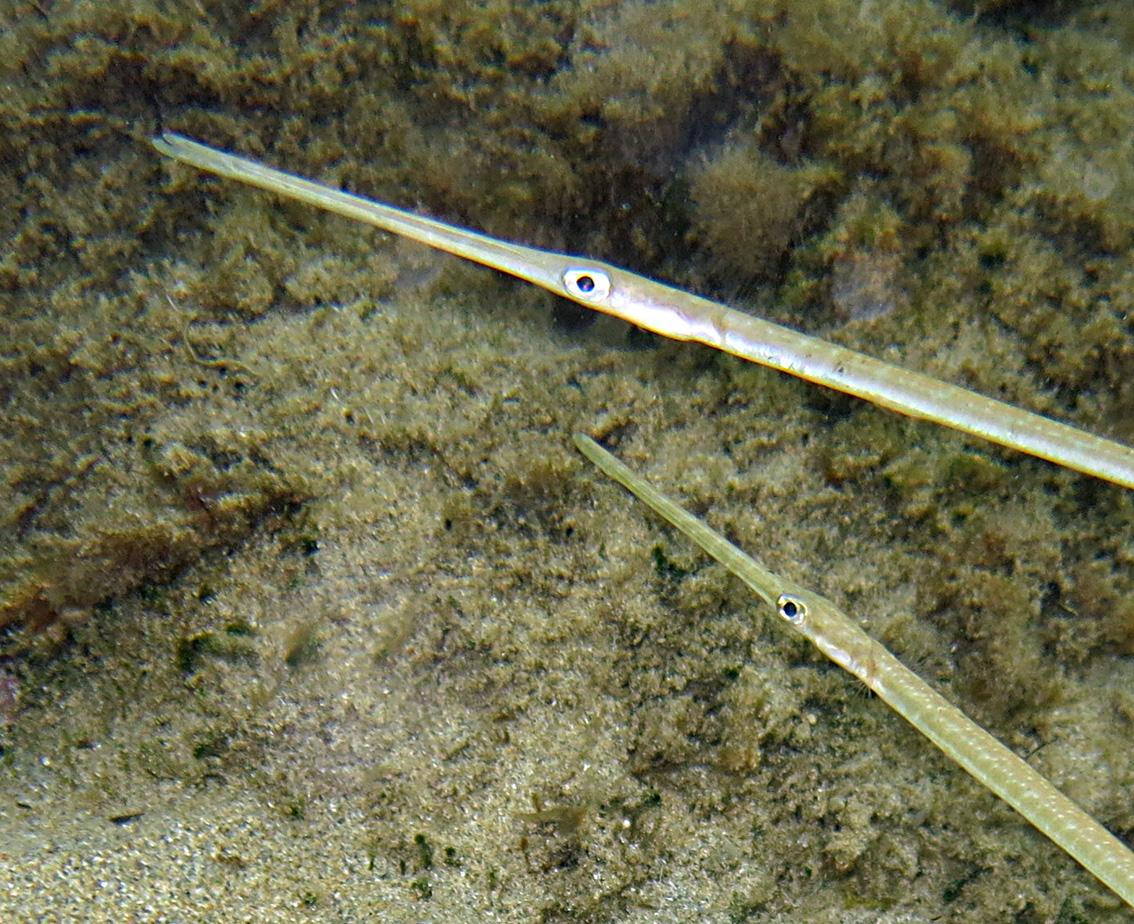Fistularia commersonii: (127, 70, 1134, 501), (386, 407, 1129, 914)
